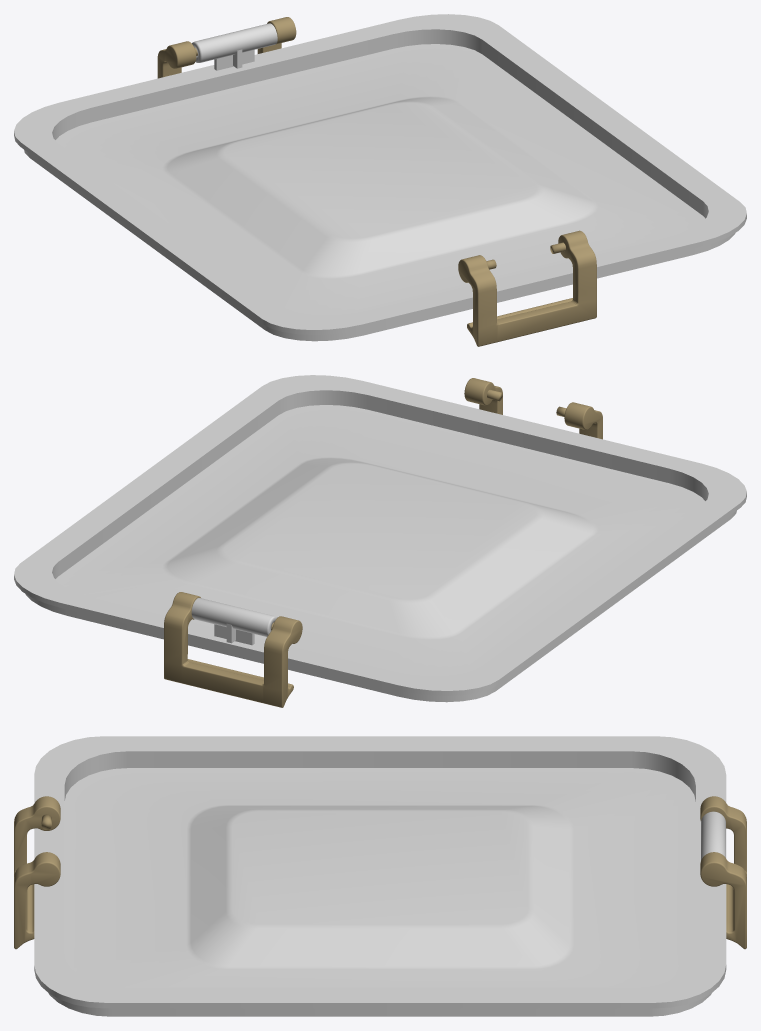
The model's file is 360-cseperator.glb.
3 renders of one model, top to bottom at view 1: azimuth 30°, elevation 25°; view 2: azimuth 150°, elevation 25°; view 3: azimuth 270°, elevation 25°, orthographic. The views are drawn at different scales.
Visible parts, largest first — view 1: c Plane.041, c Circle.001, c Cylinder.011; view 2: c Plane.041, c Circle.001, c Cylinder.011; view 3: c Plane.041, c Circle.001, c Cylinder.011.
Boxes of the visible parts, x1=… form: c Plane.041: x1=14, y1=14, x2=746, y2=341; c Circle.001: x1=157, y1=17, x2=596, y2=346; c Cylinder.011: x1=192, y1=23, x2=277, y2=70; c Plane.041: x1=14, y1=375, x2=746, y2=702; c Circle.001: x1=164, y1=378, x2=602, y2=707; c Cylinder.011: x1=191, y1=598, x2=276, y2=645; c Plane.041: x1=34, y1=736, x2=726, y2=1016; c Circle.001: x1=14, y1=796, x2=746, y2=949; c Cylinder.011: x1=701, y1=811, x2=725, y2=860.
Size of the model in its own units: 5.65 by 0.8649 by 6.56.
